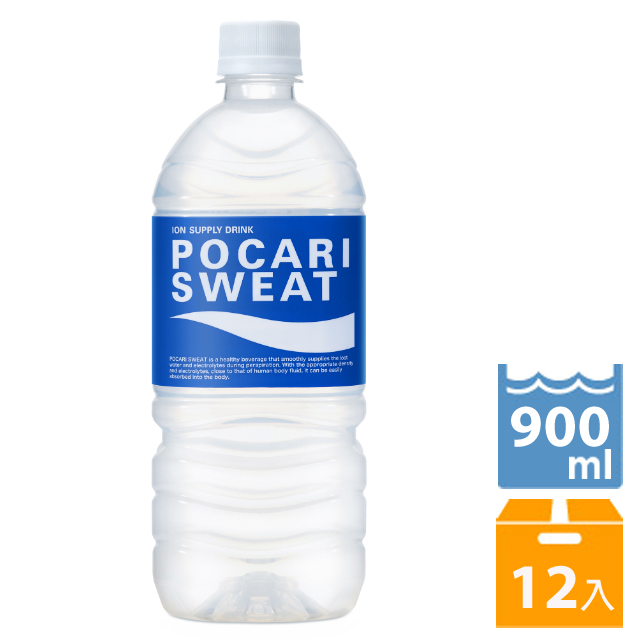POCARI SWEAT: (149, 19, 368, 619)
